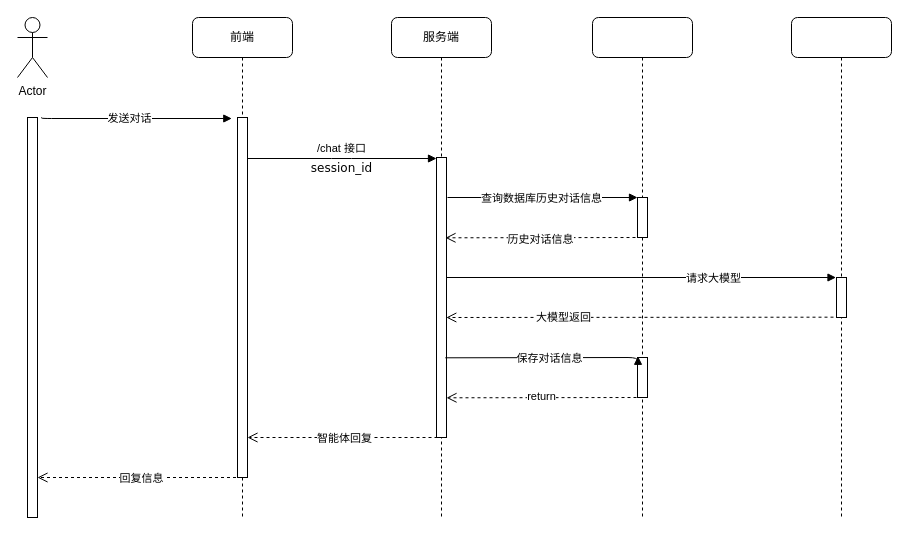
Some shapes in this 909 by 535 pixel diagram are drawn without their labels. Here are the shapes that lost their labels. From the top down, the box of each, then its label:
(592, 16, 692, 518): 数据库
(790, 16, 892, 518): 大模型
